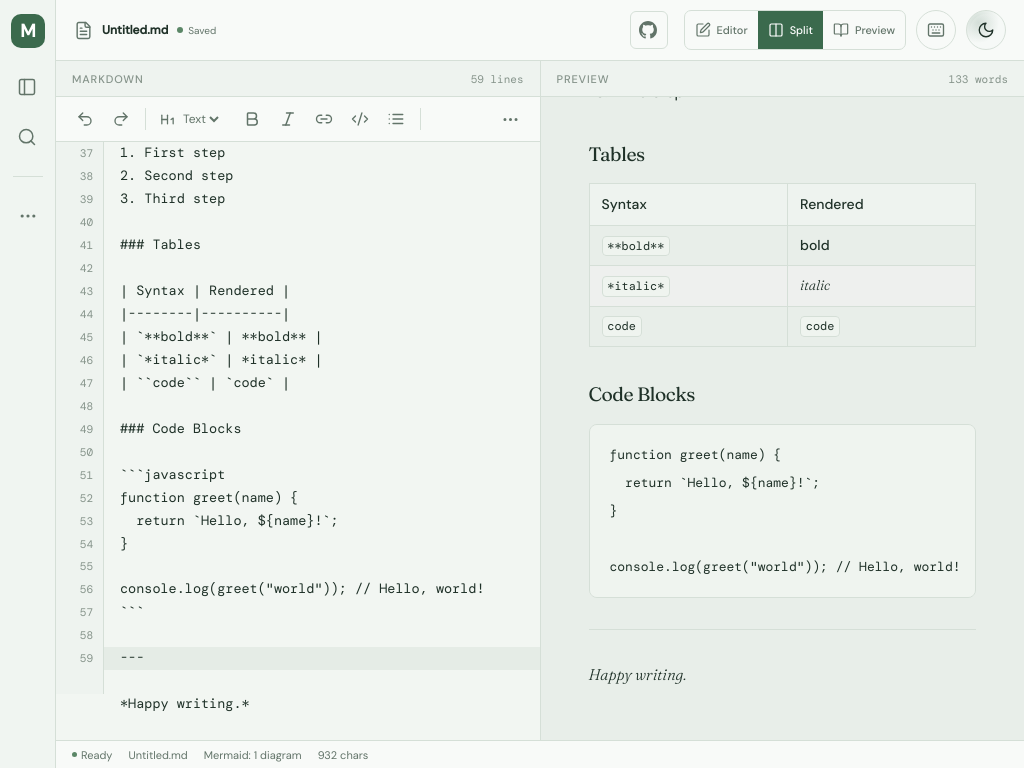
Test: MarkdownStudioView › suppresses global shortcuts while the table dimension picker is open
(page scrolled)
Click the button named "Document actions". click: (28, 216)
box: x1=6 y1=195 x2=48 y2=237
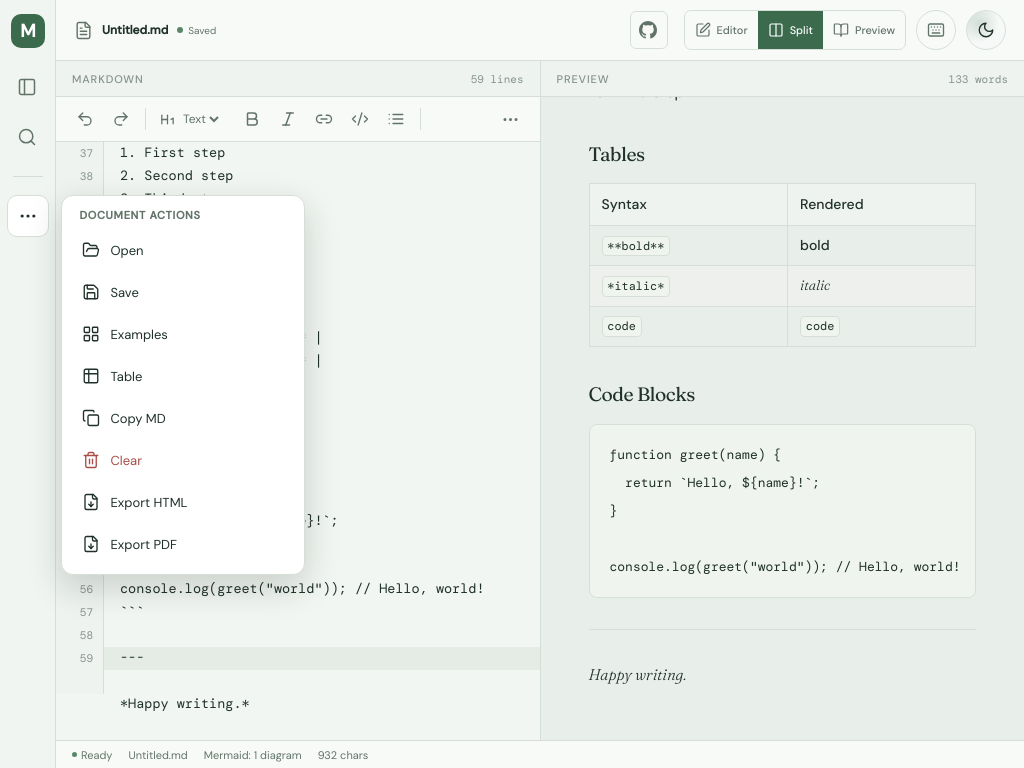
Click the button with aria-label "Insert table". click: (182, 376)
box: x1=72 y1=356 x2=294 y2=396
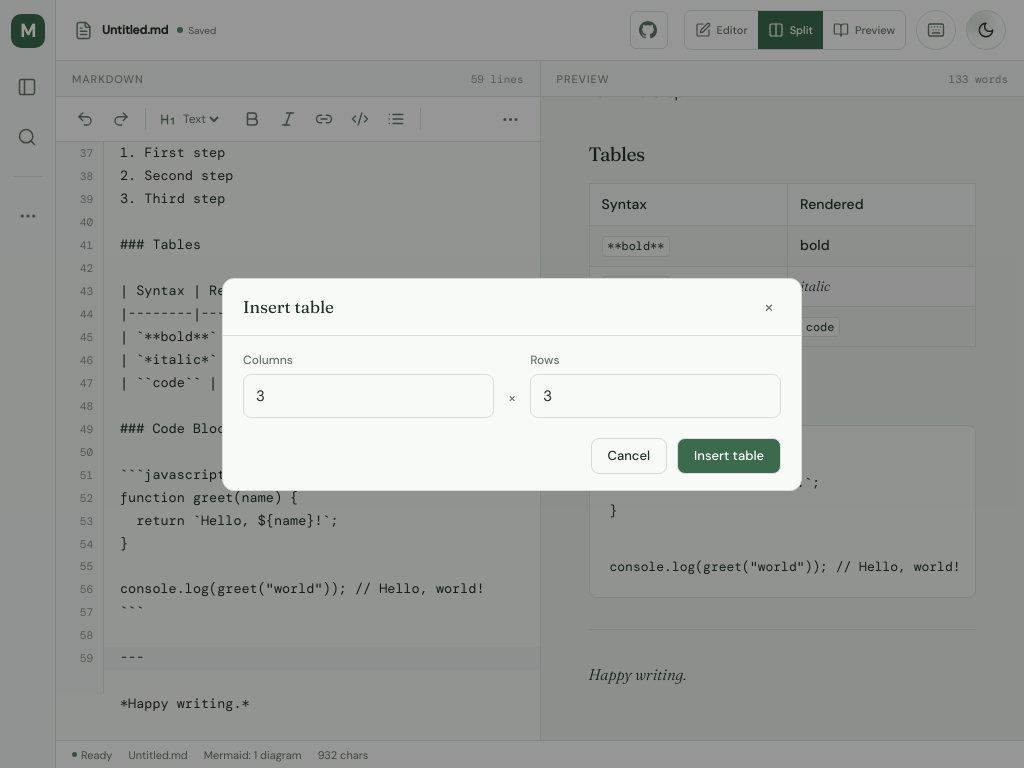
Check: the number field named "Columns" is shown, box x1=243 y1=374 x2=494 y2=418
